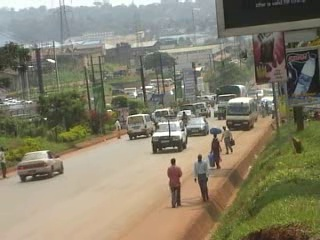Car: (16, 148, 67, 182), (149, 118, 192, 156), (183, 115, 210, 138), (175, 108, 194, 121), (212, 104, 218, 116)
Motorcycle: (180, 117, 188, 127)
